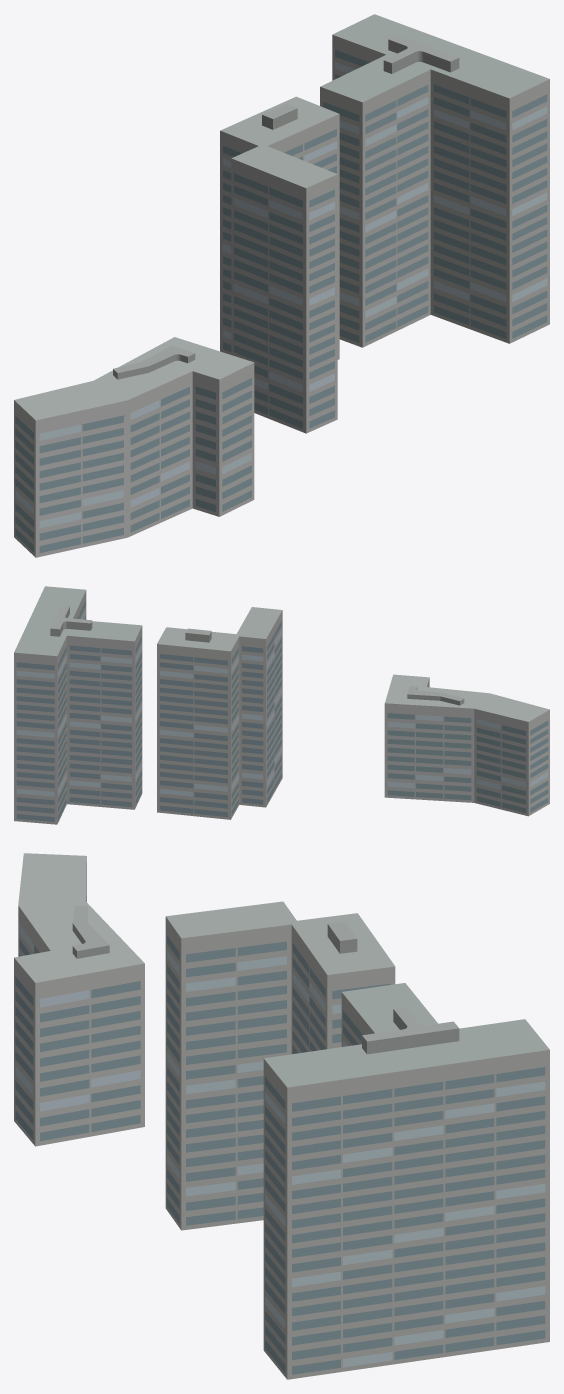
File: apt-a15381303.glb
3 views of the same model, one above another, from view 1: azimuth 30°, elevation 25°; view 2: azimuth 150°, elevation 25°; view 3: azimuth 270°, elevation 25° (orthographic). The views are drawn at different scales.
Visible parts, largest first — view 1: apt-a15381303; view 2: apt-a15381303; view 3: apt-a15381303.
Boxes of the visible parts, x1,y1,x2,y2 form: apt-a15381303: [14, 14, 549, 557]; apt-a15381303: [14, 586, 549, 824]; apt-a15381303: [14, 853, 549, 1379].
Bounding box in the file's own units: 146 × 57 × 90.77.
